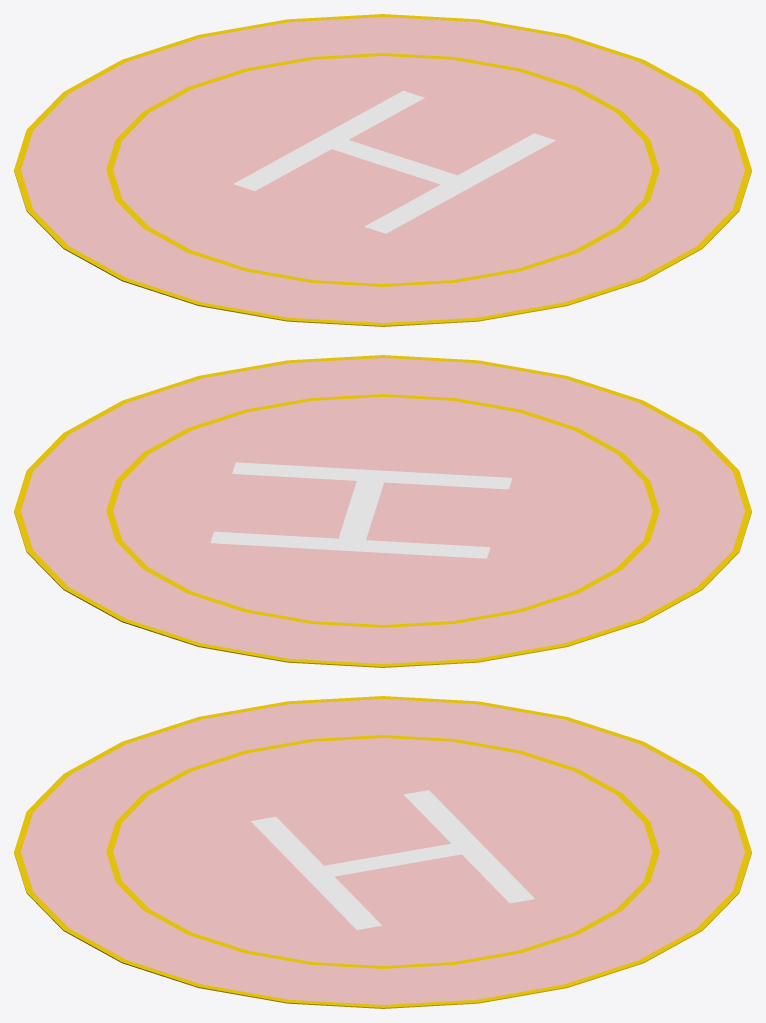
The picture shows the model from 3 angles, top to bottom: view 1: azimuth 30°, elevation 25°; view 2: azimuth 150°, elevation 25°; view 3: azimuth 270°, elevation 25°; orthographic projection.
Parts seen in each view (by area): view 1: SketchUp (×5); view 2: SketchUp (×5); view 3: SketchUp (×5).
Boxes of the visible parts, x1,y1,x2,y2 form: SketchUp (×5): (14, 14, 751, 326); SketchUp (×5): (14, 355, 751, 667); SketchUp (×5): (14, 696, 751, 1008).
Bounding box in the file's own units: 126 × 126 × 0.1969.
